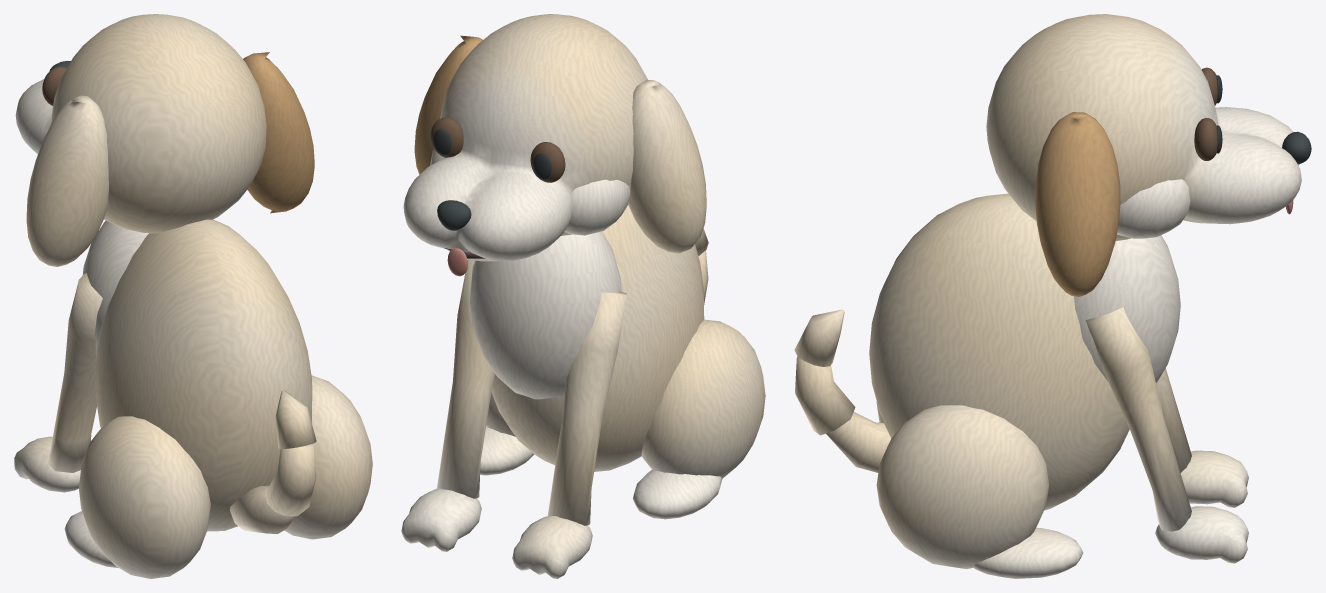
Rendered from real_dog.glb.
3 renders of one model, left to right at view 1: azimuth 30°, elevation 25°; view 2: azimuth 150°, elevation 25°; view 3: azimuth 270°, elevation 25°, orthographic. The views are drawn at different scales.
Visible parts, largest first — view 1: Torso, Head, Haunch_L, Ear_L, Haunch_R, Ear_R, Leg_FL, Chest, Tail_2, Paw_FL, Tail_1, Tail_3 (+2 smaller); view 2: Head, Torso, Chest, Haunch_L, Ear_L, Leg_FL, Leg_FR, Paw_FR, Paw_FL, Paw_BL, Cheek_L, Ear_R (+5 smaller); view 3: Torso, Head, Haunch_R, Ear_R, Leg_FR, Chest, Paw_FR, Paw_BR, Cheek_R, Paw_FL, Tail_2, Tail_1 (+4 smaller).
Boxes of the visible parts, x1,y1,x2,y2 form: Torso: [95, 219, 312, 531]; Head: [15, 14, 266, 233]; Haunch_L: [79, 416, 210, 578]; Ear_L: [26, 95, 108, 266]; Haunch_R: [284, 375, 372, 539]; Ear_R: [243, 52, 314, 213]; Leg_FL: [48, 273, 102, 472]; Chest: [82, 220, 148, 348]; Tail_2: [265, 444, 316, 516]; Paw_FL: [14, 436, 80, 492]; Tail_1: [230, 485, 294, 533]; Tail_3: [275, 390, 316, 448]; Head: [403, 14, 647, 261]; Torso: [491, 205, 704, 471]; Chest: [470, 231, 621, 399]; Haunch_L: [641, 319, 765, 478]; Ear_L: [628, 79, 706, 253]; Leg_FL: [547, 291, 626, 525]; Leg_FR: [437, 259, 495, 498]; Paw_FR: [401, 488, 481, 551]; Paw_FL: [512, 515, 592, 578]; Paw_BL: [633, 469, 722, 519]; Cheek_L: [564, 179, 630, 235]; Ear_R: [414, 35, 482, 174]; Torso: [869, 193, 1129, 510]; Head: [986, 14, 1301, 240]; Haunch_R: [876, 405, 1048, 569]; Ear_R: [1035, 112, 1120, 296]; Leg_FR: [1085, 307, 1191, 531]; Chest: [1074, 235, 1180, 382]; Paw_FR: [1155, 506, 1248, 563]; Paw_BR: [972, 527, 1083, 578]; Cheek_R: [1117, 179, 1190, 238]; Paw_FL: [1180, 450, 1248, 507]; Tail_2: [795, 356, 855, 435]; Tail_1: [826, 412, 891, 472].
Bounding box in the file's own units: 0.364 × 0.6007 × 0.5577.
7 materials, 7 textured.
